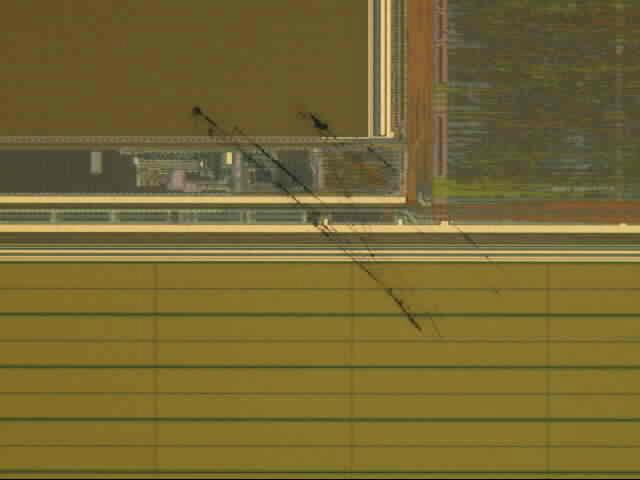SCRATCH: (190, 102, 510, 342)
